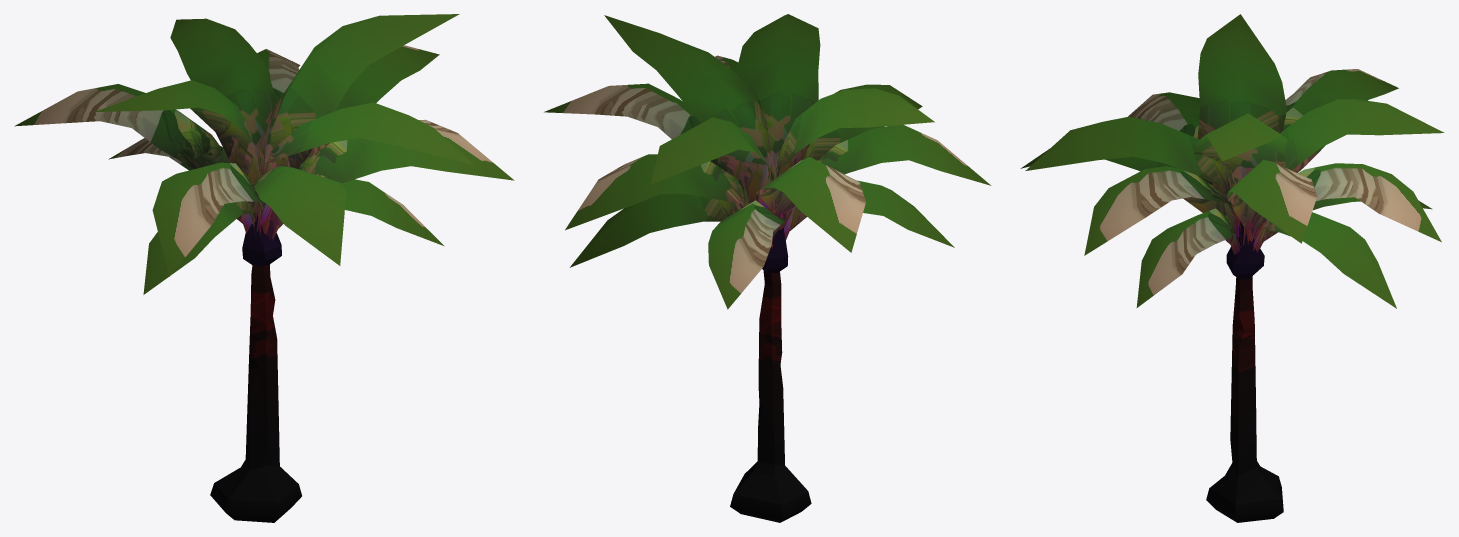
Rendered from SM_Env_Tree_Banana_01.gltf.
The picture shows the model from 3 angles, left to right: view 1: azimuth 30°, elevation 25°; view 2: azimuth 150°, elevation 25°; view 3: azimuth 270°, elevation 25°; orthographic projection. The views are drawn at different scales.
Parts seen in each view (by area): view 1: SM_Env_Tree_Banana_01_Leaves_LOD0, SM_Env_Tree_Banana_01_LOD0; view 2: SM_Env_Tree_Banana_01_Leaves_LOD0, SM_Env_Tree_Banana_01_LOD0; view 3: SM_Env_Tree_Banana_01_Leaves_LOD0, SM_Env_Tree_Banana_01_LOD0.
Part boxes in pixels (box(x1,y1,x2,y2)): SM_Env_Tree_Banana_01_Leaves_LOD0: box(14, 14, 514, 294); SM_Env_Tree_Banana_01_LOD0: box(210, 264, 301, 522); SM_Env_Tree_Banana_01_Leaves_LOD0: box(544, 14, 991, 309); SM_Env_Tree_Banana_01_LOD0: box(730, 270, 811, 522); SM_Env_Tree_Banana_01_Leaves_LOD0: box(1020, 14, 1444, 308); SM_Env_Tree_Banana_01_LOD0: box(1206, 276, 1283, 522).
Size of what is drawn, in the model's own units: 4.94 by 5.87 by 5.08.
Materials: 2 (2 with a texture image).
